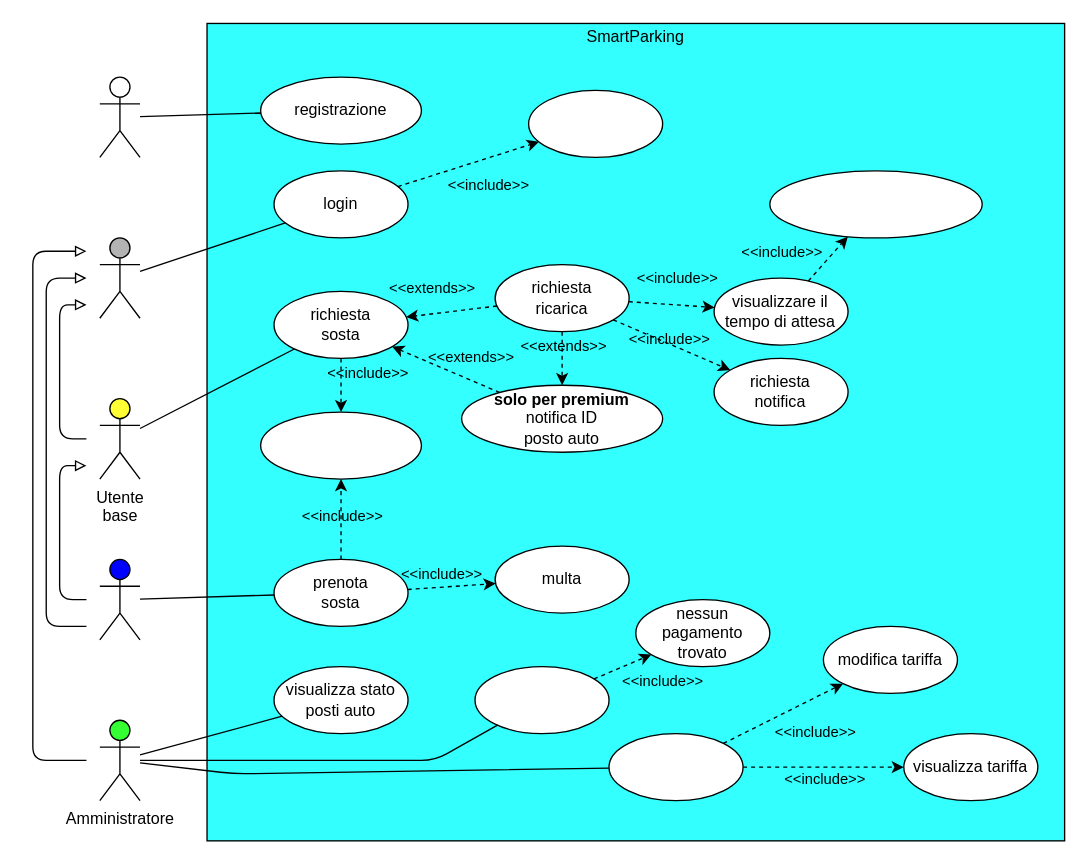
Image size: 1088x864. Some labels were removed from this diagram. The shapes that lost their labels are listed below. From the top down, each one's centre as x and y in pixels, then its label:
point 119,116: Non-utente
point 595,123: utente non trovato
point 875,204: utente rifiuta per coda troppo lunga
point 119,277: Utente
point 340,445: posto auto liberi non disponibili
point 119,599: Utente premium
point 541,699: visualizza pagamenti
point 675,766: gestione tariffe
